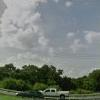Tree: (9, 56, 68, 87)
